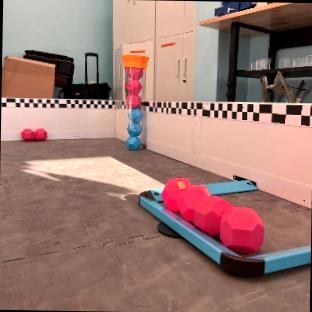Parking - B: (139, 190, 310, 276)
V5_BLUE: (127, 108, 142, 149)
V5_RED: (161, 177, 264, 255), (126, 66, 141, 107), (20, 129, 47, 140)
